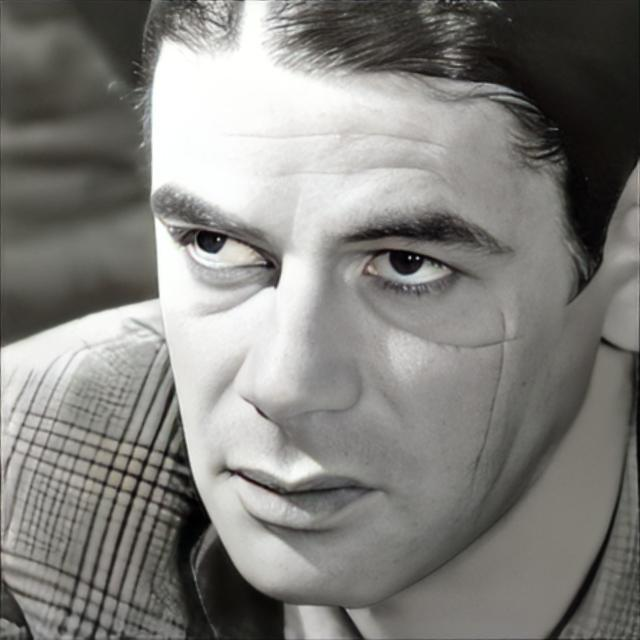anger: (152, 63, 572, 604)
